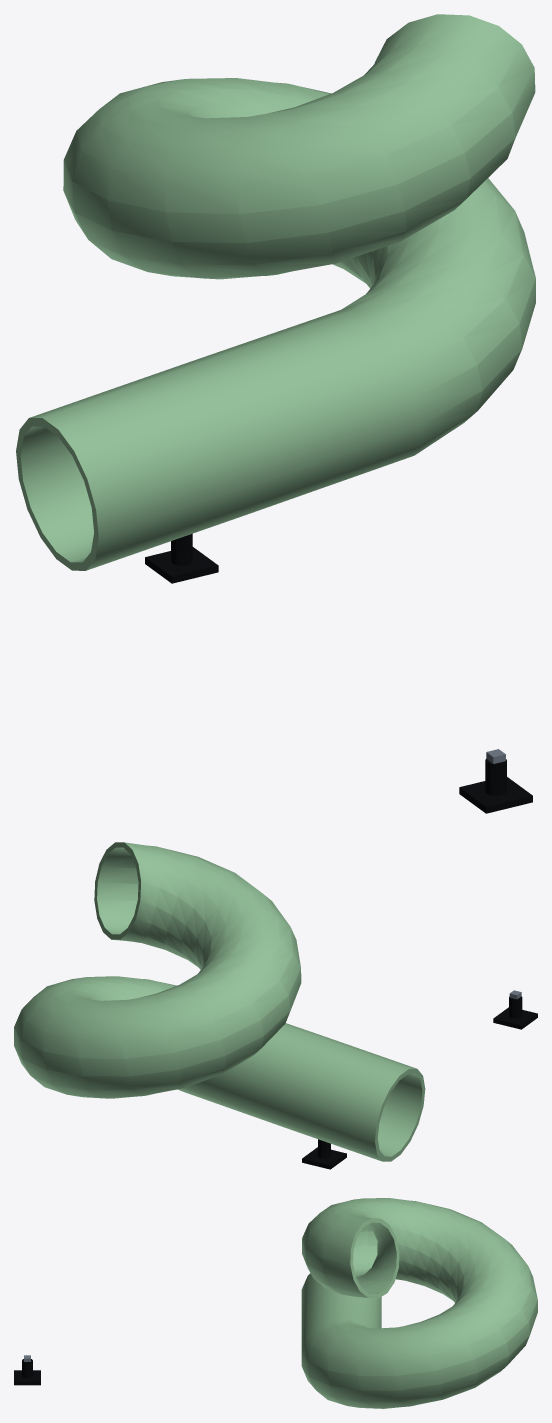
The model's file is tt_leisure_slide_tubes_a.glb.
3 renders of one model, top to bottom at view 1: azimuth 30°, elevation 25°; view 2: azimuth 150°, elevation 25°; view 3: azimuth 270°, elevation 25°, orthographic. The views are drawn at different scales.
Visible parts, largest first — view 1: Slide_Tube, Tube_Footplate, Tube_SupportPosts; view 2: Slide_Tube, Tube_Footplate, Tube_SupportPosts; view 3: Slide_Tube, Tube_Footplate.
Boxes of the visible parts, x1=… form: Slide_Tube: x1=16, y1=14, x2=535, y2=570; Tube_Footplate: x1=145, y1=547, x2=532, y2=813; Tube_SupportPosts: x1=171, y1=533, x2=506, y2=795; Slide_Tube: x1=14, y1=842, x2=425, y2=1161; Tube_Footplate: x1=302, y1=1007, x2=537, y2=1169; Tube_SupportPosts: x1=318, y1=996, x2=522, y2=1158; Slide_Tube: x1=301, y1=1198, x2=537, y2=1408; Tube_Footplate: x1=14, y1=1370, x2=40, y2=1385.
Size of what is drawn, in the model's own units: 3.41 by 2.84 by 5.84.
Materials: 3 (2 with a texture image).
